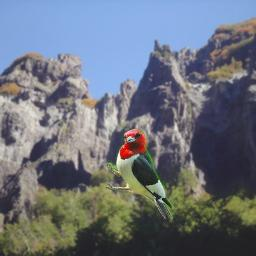Woodpecker: (106, 128, 176, 219)
